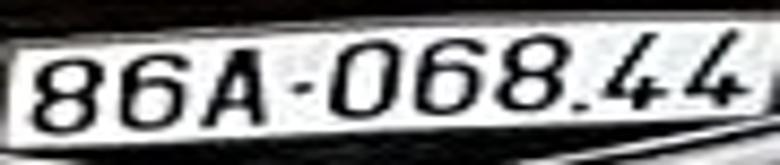-: (285, 76, 316, 97)
.: (570, 100, 590, 111)
0: (327, 38, 400, 119)
4: (682, 27, 754, 112), (601, 28, 668, 112)
6: (119, 53, 187, 133), (416, 39, 483, 115)
8: (33, 59, 100, 135), (504, 33, 565, 109)
A: (201, 47, 268, 126)
